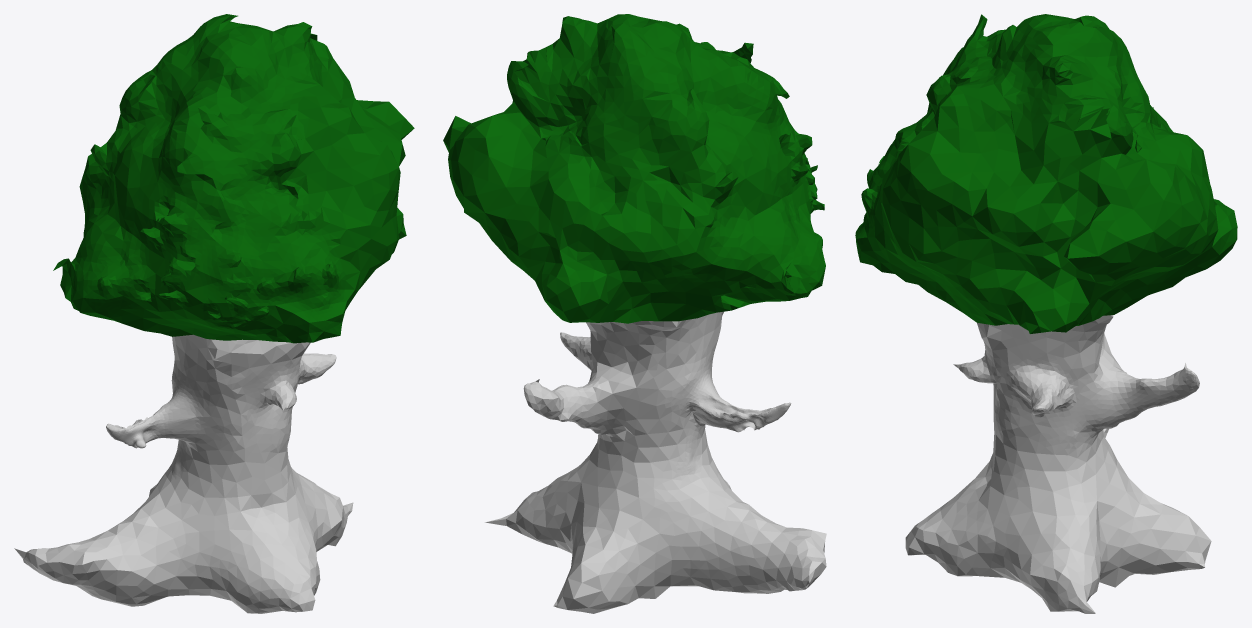
Rendered from tree.obj.
3 views of the same model, side by side, from view 1: azimuth 30°, elevation 25°; view 2: azimuth 150°, elevation 25°; view 3: azimuth 270°, elevation 25° (orthographic).
Visible parts, largest first — view 1: feuillage_Cube, tronc_Cube.001; view 2: feuillage_Cube, tronc_Cube.001; view 3: feuillage_Cube, tronc_Cube.001.
Boxes of the visible parts, x1,y1,x2,y2 form: feuillage_Cube: (53, 14, 414, 343); tronc_Cube.001: (14, 334, 353, 613); feuillage_Cube: (443, 14, 825, 323); tronc_Cube.001: (485, 311, 826, 613); feuillage_Cube: (855, 14, 1237, 333); tronc_Cube.001: (905, 315, 1211, 613).
Bounding box in the file's own units: 9.32 × 13.04 × 8.03.
